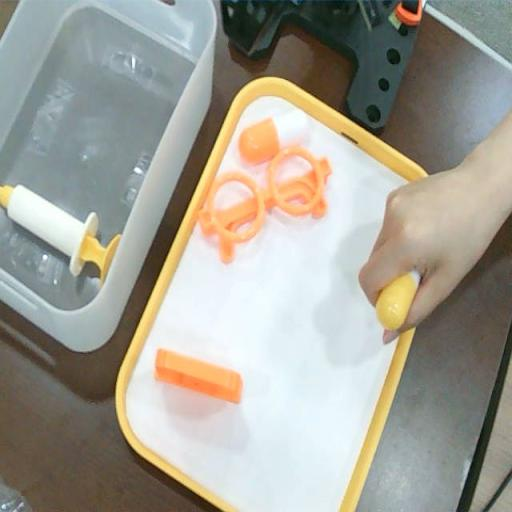hospital: (359, 152, 510, 344)
